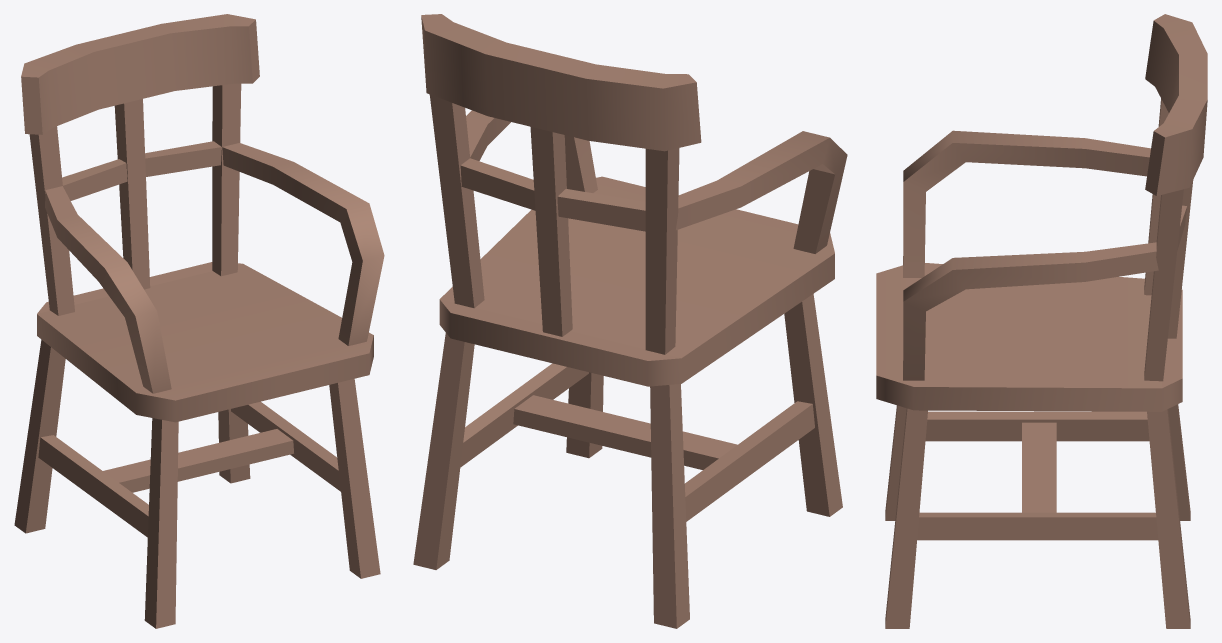
File: Chair.fbx
3 renders of one model, left to right at view 1: azimuth 30°, elevation 25°; view 2: azimuth 150°, elevation 25°; view 3: azimuth 270°, elevation 25°, orthographic. The views are drawn at different scales.
Parts seen in each view (by area): view 1: SM_Prop_Chair_01; view 2: SM_Prop_Chair_01; view 3: SM_Prop_Chair_01.
Part boxes in pixels (<box>): SM_Prop_Chair_01: <box>14,14,384,628</box>; SM_Prop_Chair_01: <box>413,14,847,628</box>; SM_Prop_Chair_01: <box>876,14,1207,628</box>.
Size of the model in its own units: 64.49 by 107 by 64.87.
